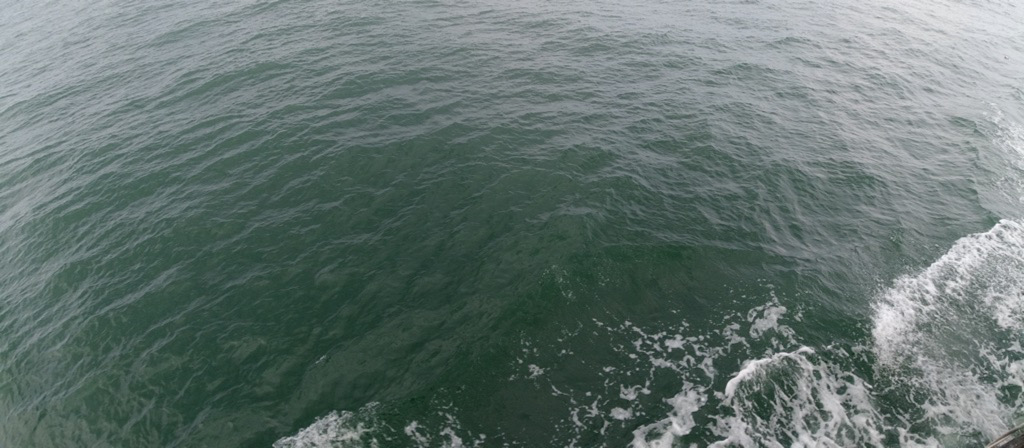plastic: (1000, 52, 1014, 65)
